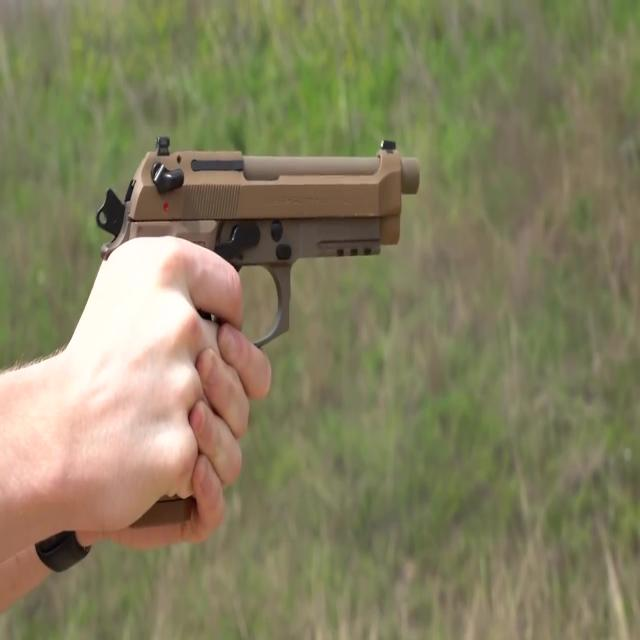Weapon: (53, 93, 465, 585)
